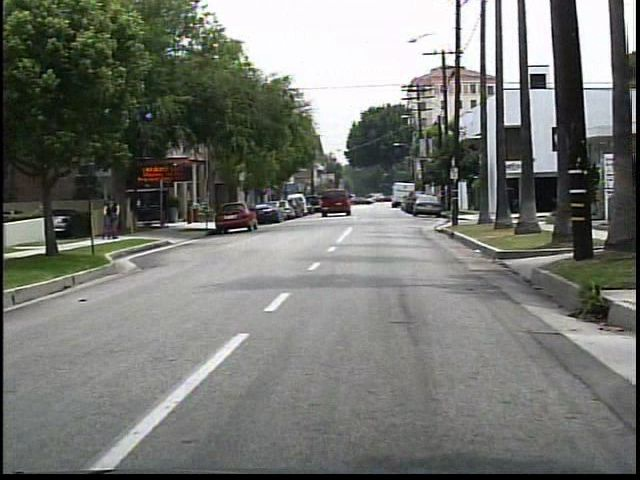person: (99, 192, 124, 242)
